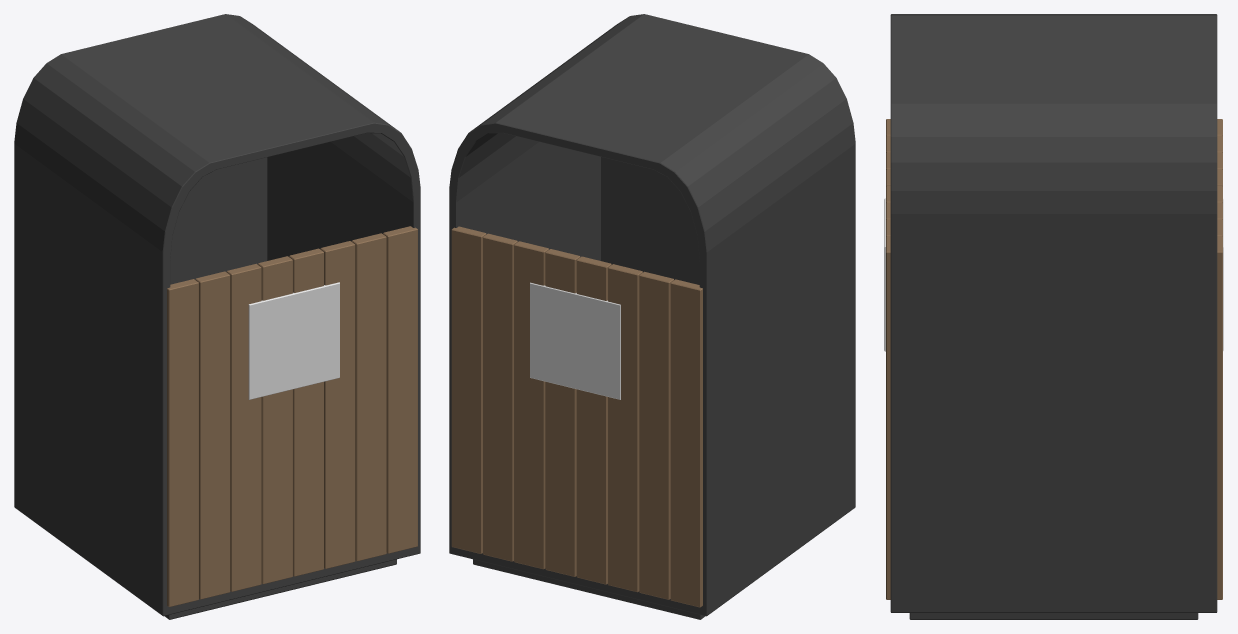
The model's file is trashcan.glb.
The picture shows the model from 3 angles, left to right: view 1: azimuth 30°, elevation 25°; view 2: azimuth 150°, elevation 25°; view 3: azimuth 270°, elevation 25°; orthographic projection. The views are drawn at different scales.
Visible parts, largest first — view 1: TrashcanFrame, TrashcanPanels, TrashcanLogo; view 2: TrashcanFrame, TrashcanPanels, TrashcanLogo; view 3: TrashcanFrame, TrashcanPanels.
Boxes of the visible parts, bbox=[...] form: TrashcanFrame: bbox=[14, 14, 420, 619]; TrashcanPanels: bbox=[167, 226, 417, 607]; TrashcanLogo: bbox=[248, 282, 339, 399]; TrashcanFrame: bbox=[449, 14, 855, 619]; TrashcanPanels: bbox=[451, 226, 702, 607]; TrashcanLogo: bbox=[530, 282, 620, 399]; TrashcanFrame: bbox=[890, 14, 1217, 619]; TrashcanPanels: bbox=[886, 119, 1222, 599].
Bounding box in the file's own units: 0.85 × 1.43 × 0.8827.
